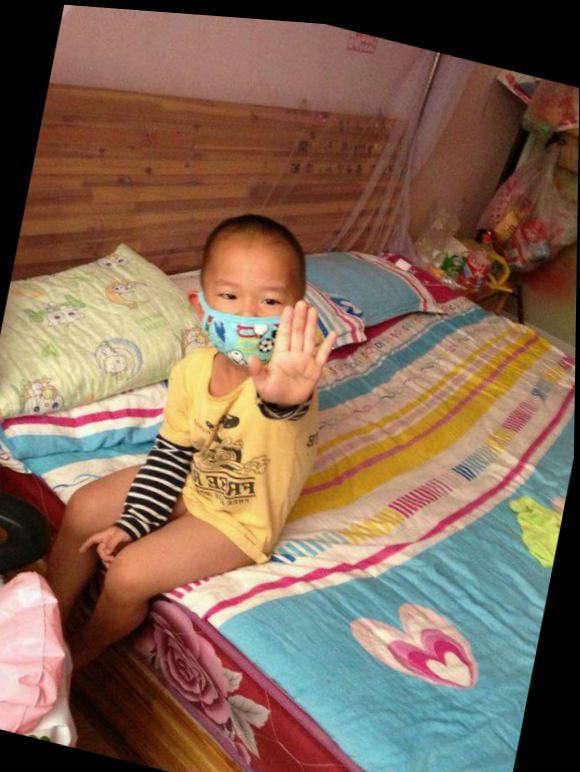WRONG: (189, 258, 304, 378)
